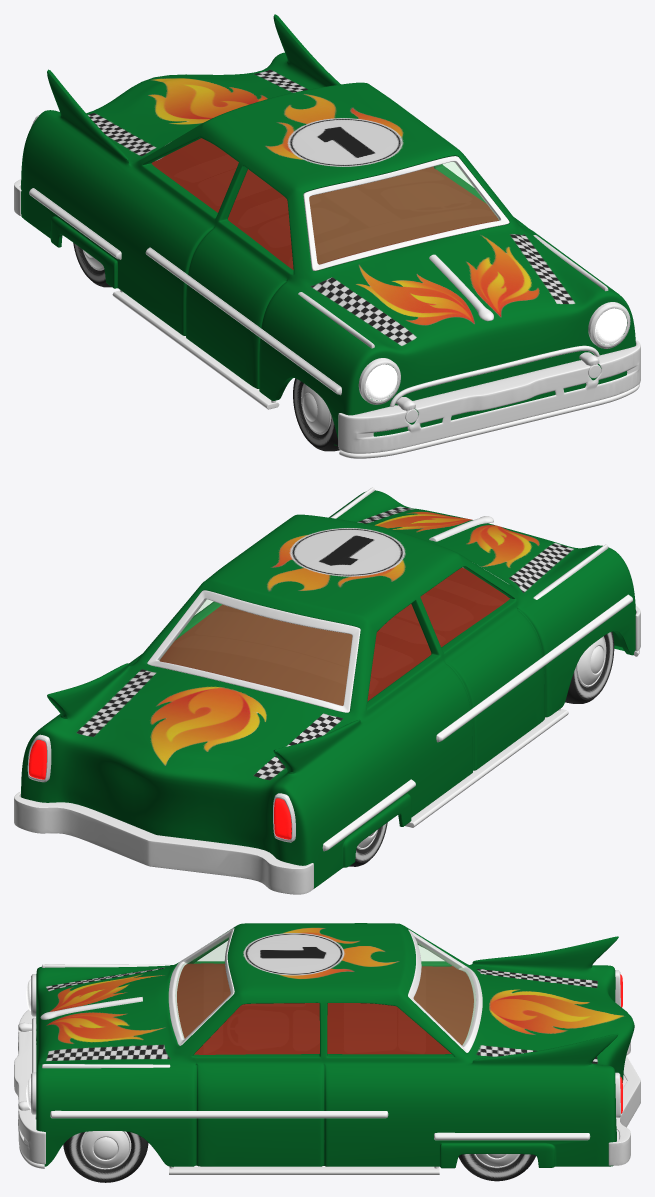
The model's file is ev_health_car.glb.
3 renders of one model, top to bottom at view 1: azimuth 30°, elevation 25°; view 2: azimuth 150°, elevation 25°; view 3: azimuth 270°, elevation 25°, orthographic. The views are drawn at different scales.
Visible parts, largest first — view 1: ToyCar, Glass; view 2: ToyCar, Glass; view 3: ToyCar, Glass.
Part boxes in pixels (x1=…): ToyCar: x1=14, y1=14, x2=640, y2=458; Glass: x1=309, y1=162, x2=499, y2=263; ToyCar: x1=14, y1=487, x2=640, y2=894; Glass: x1=159, y1=599, x2=351, y2=705; ToyCar: x1=14, y1=923, x2=640, y2=1182; Glass: x1=175, y1=935, x2=475, y2=1045.
Bounding box in the file's own units: 0.0187 × 0.0116 × 0.0384.
2 materials, 1 textured.
